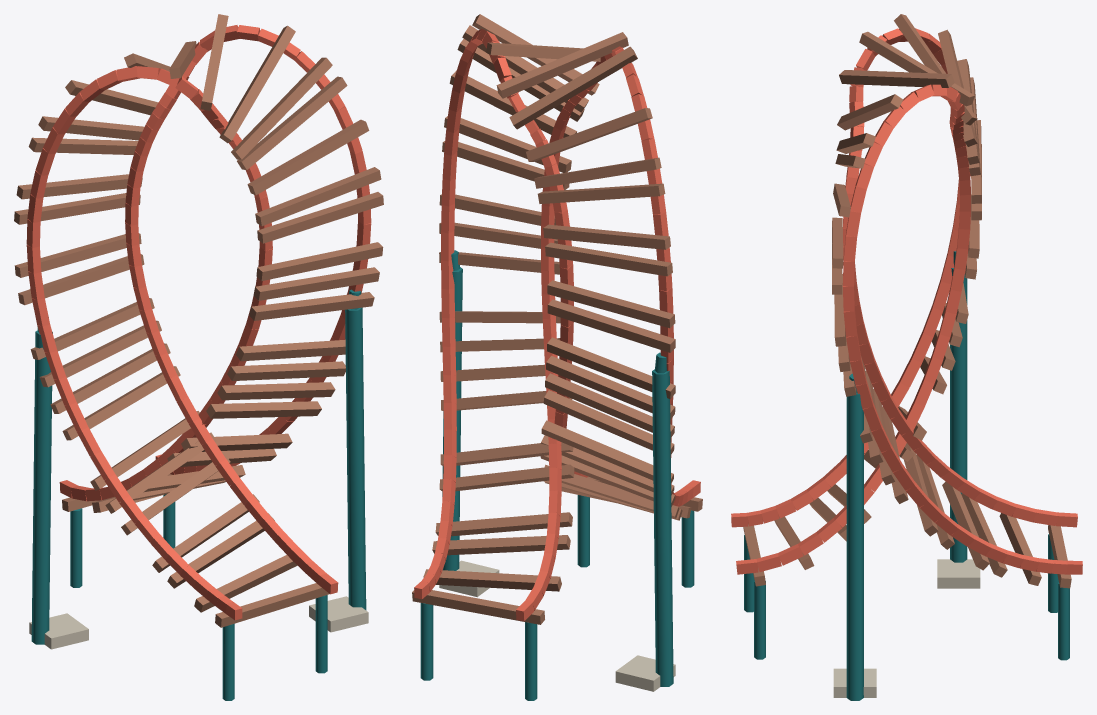
Rendered from track_loop.glb.
The picture shows the model from 3 angles, left to right: view 1: azimuth 30°, elevation 25°; view 2: azimuth 150°, elevation 25°; view 3: azimuth 270°, elevation 25°; orthographic projection. The views are drawn at different scales.
Visible parts, largest first — view 1: track_loop; view 2: track_loop; view 3: track_loop.
Part boxes in pixels (x1,y1,x2,y2): track_loop: (14,14,383,700); track_loop: (412,14,702,700); track_loop: (731,14,1082,700).
Size of the model in its own units: 3.9 by 7.51 by 4.08.
